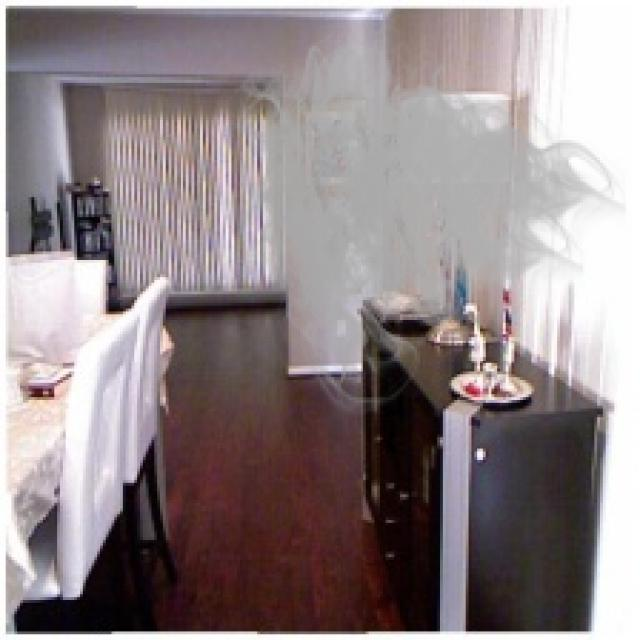smoke: (214, 9, 626, 420)
